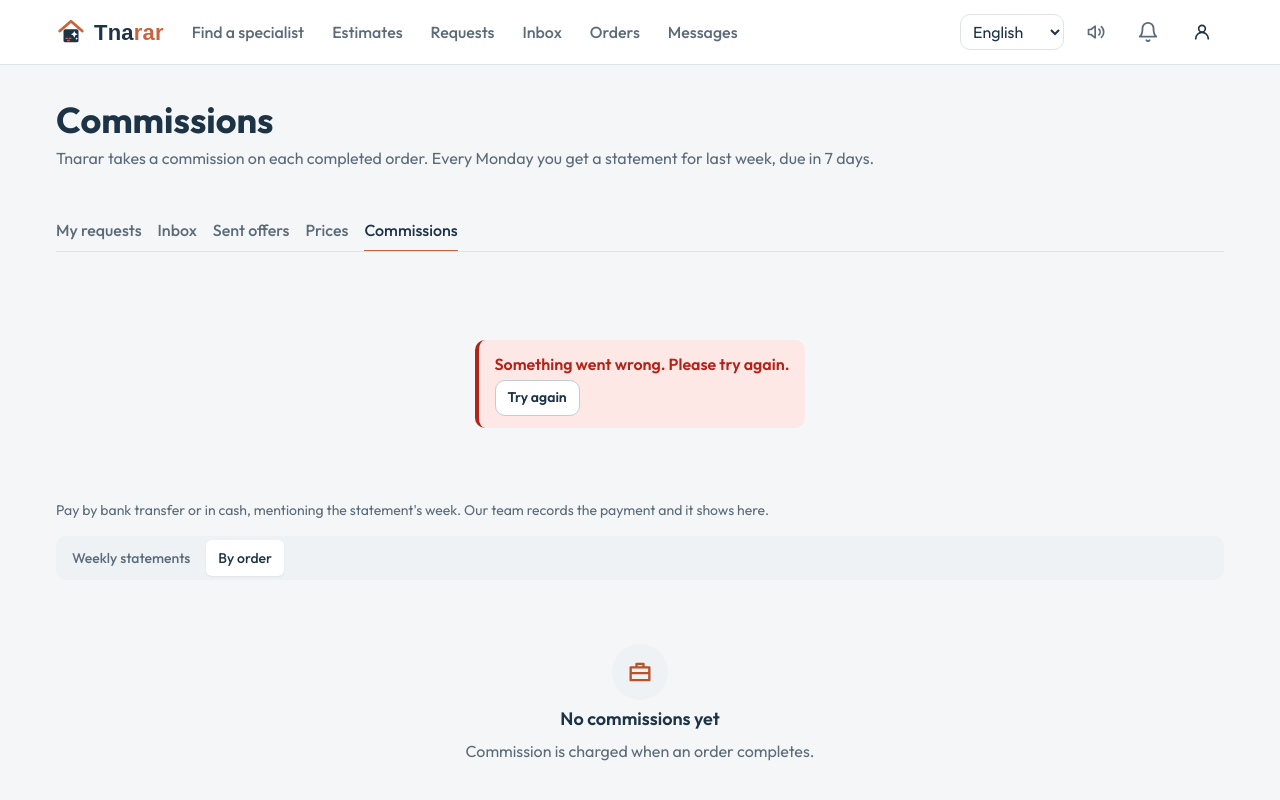
it: Commissions page › shows empty lists and load errors
This screenshot has width=1280, height=800.
Expected: the text "No commissions yet" is shown, [560,708,720,731]
Expected: the text "Something went wrong. Please try again." is shown, [495,352,790,376]
Click the radio button labelled "Weekly statements".
click(131, 558)  # box [60,540,202,576]
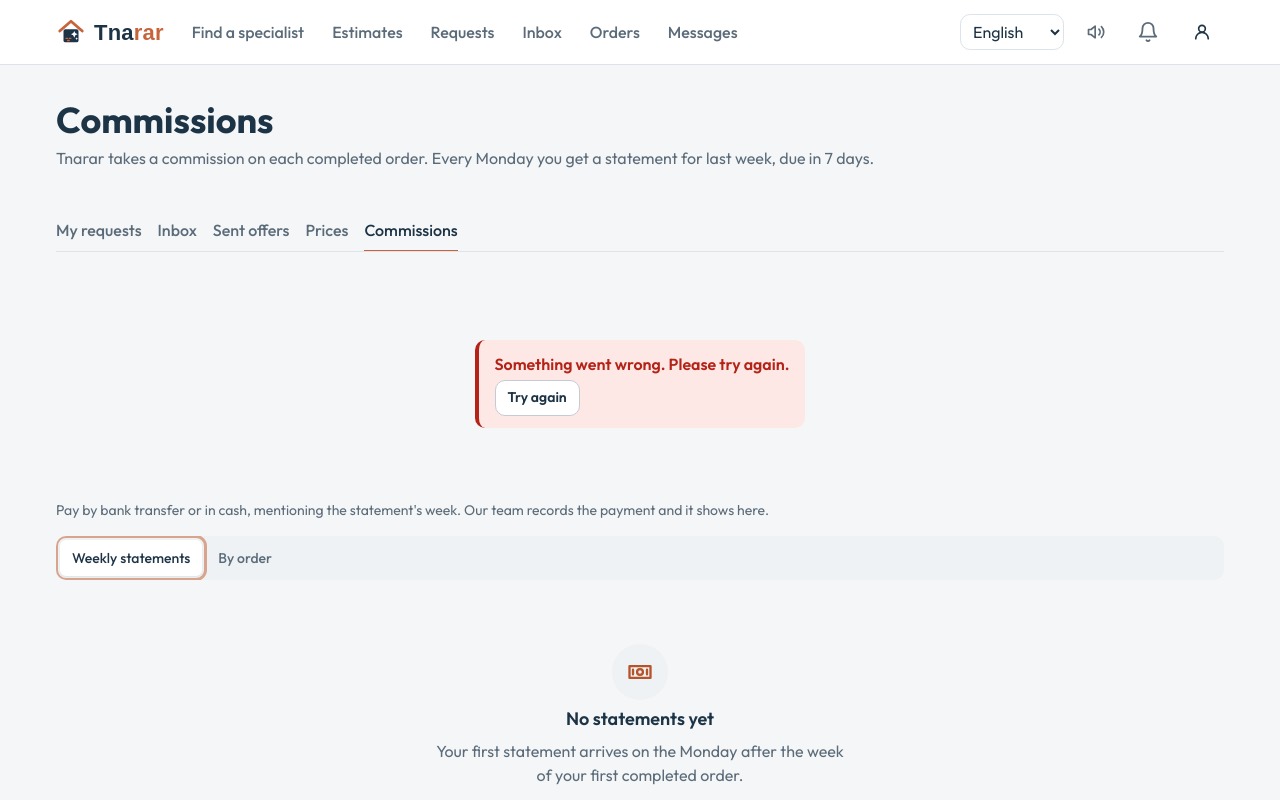
Now the text "No statements yet" is shown, box [566,708,714,731]
